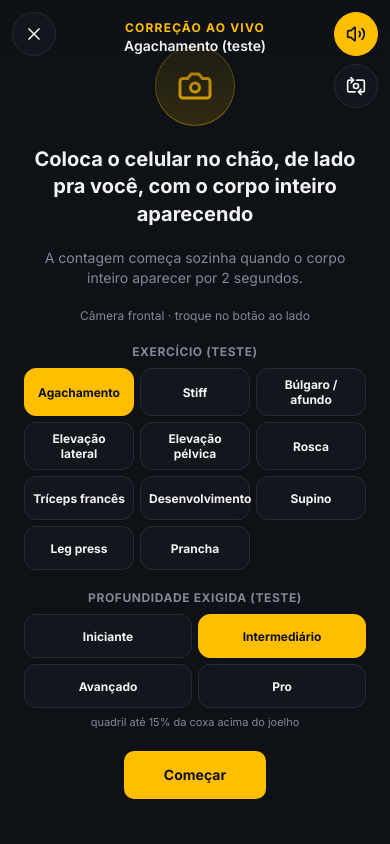
Correção ao vivo — tela inicial por exercício › teste do admin: seletor de exercício; búlgaro pede perna da frente e o banco
The image size is (390, 844).
Expected: the button "Começar" is enabled, [124, 750, 266, 798]
Click the radio button labelled "Búlgaro / afundo". click: (311,392)
box: [256, 368, 366, 416]
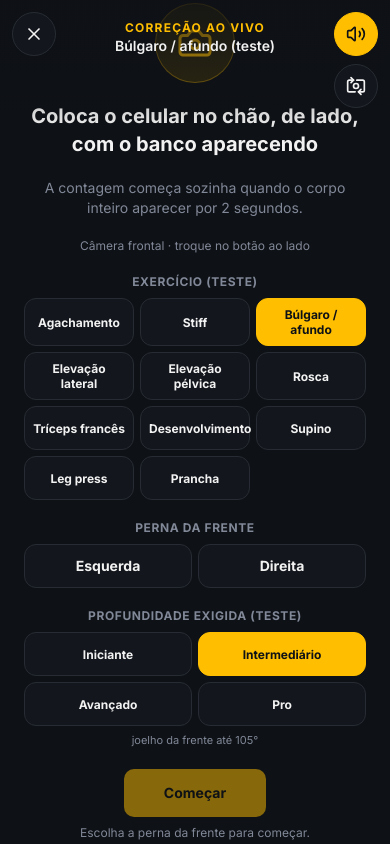
Now the text with test id "live-instruction" reads "Coloca o celular no chão, de lado, com o banco aparecendo", box [31, 104, 359, 156]
Now the button "Começar" is disabled, box [124, 769, 266, 817]
Click the radio button labelled "Direita". click: (282,566)
box: [198, 544, 366, 588]
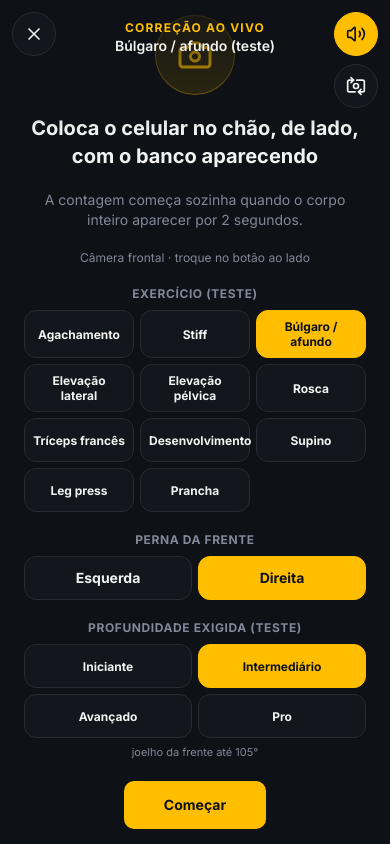
Now the text "joelho da frente até 105°" is shown, box [132, 745, 258, 759]
Now the button "Começar" is enabled, box [124, 781, 266, 829]
Click the radio button labelled "Stiff". click: (195,334)
box: [140, 310, 250, 358]
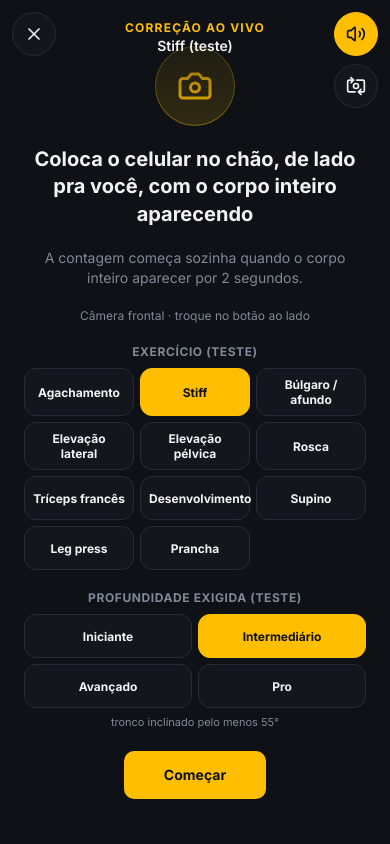
Now the element with test id "live-front-leg-picker" is gone
Now the text "tronco inclinado pelo menos 55°" is shown, box [111, 715, 279, 729]
